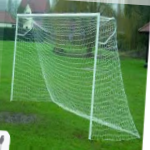goals: (9, 10, 141, 145)
